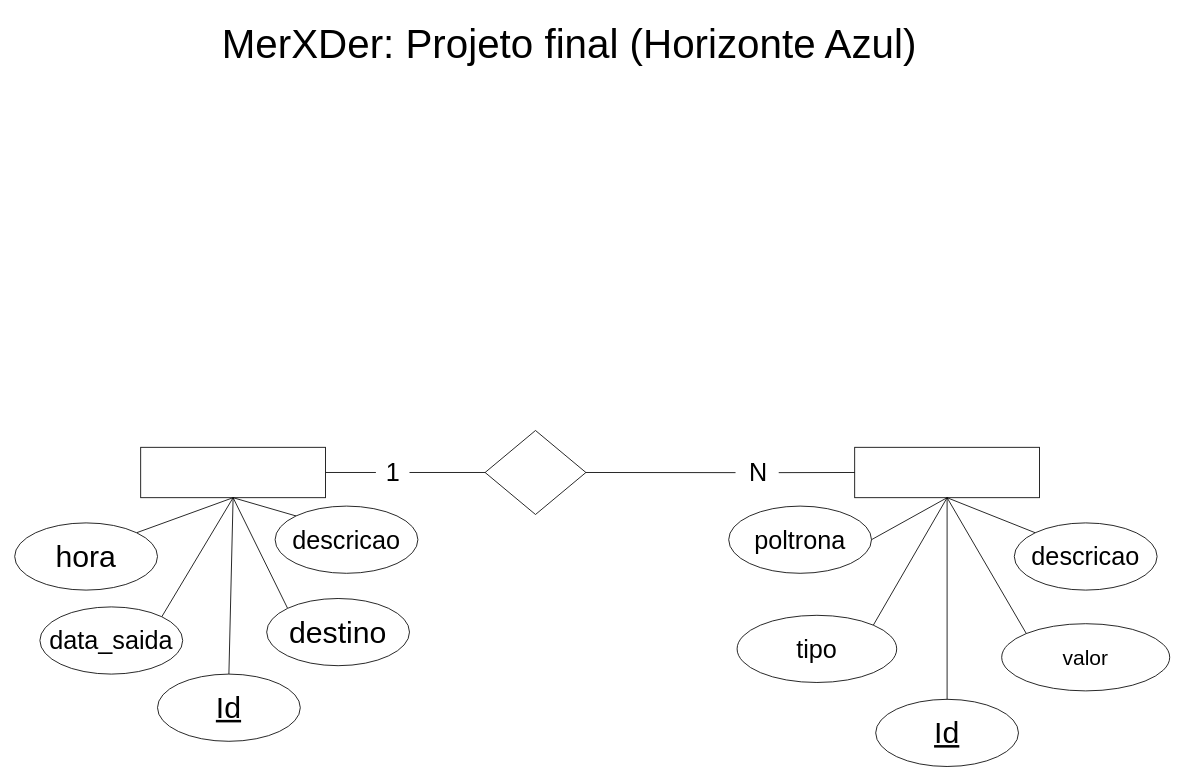
Some shapes in this 1184 by 781 pixel diagram are drawn without their labels. Each missing label, with the centre of its shape:
"passagens" belongs at pixel 947 472.
"Possui" belongs at pixel 535 472.
"Voo" belongs at pixel 233 472.
